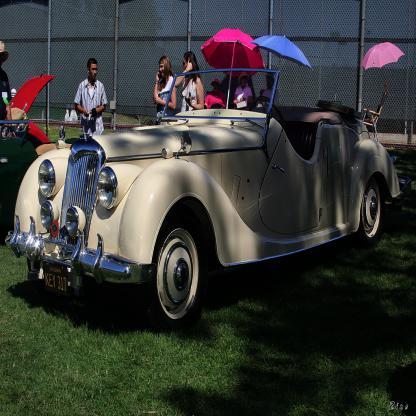Car: (24, 63, 398, 323), (0, 132, 40, 236), (2, 75, 52, 148)
